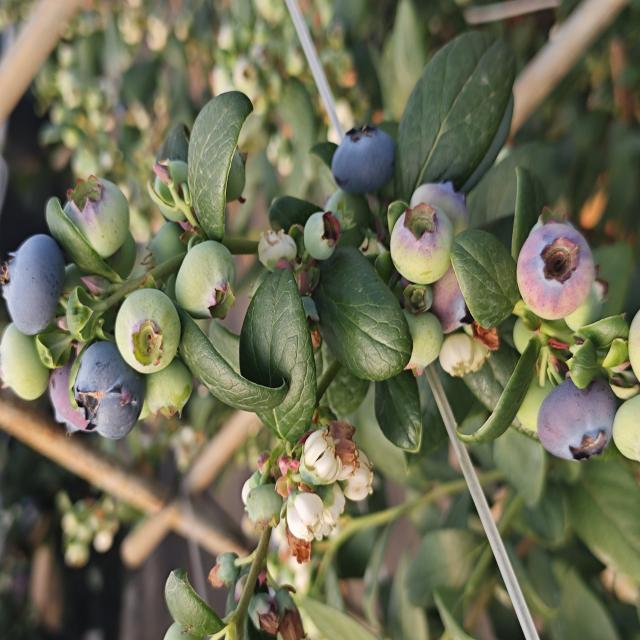ripe: (69, 339, 147, 443), (534, 371, 619, 466), (1, 232, 67, 339), (328, 120, 397, 200), (48, 354, 90, 446)
